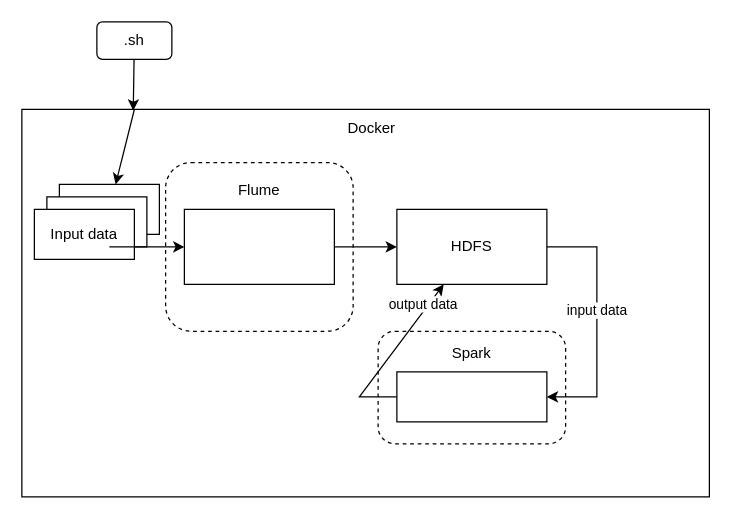
Image size: 731x519. Some labels were removed from this diagram. The shapes that lost their labels are listed below. From the top down, each one's centre as x and y in pixels, then its label:
At [258,246]: "Flume agent".
At [471,396]: "SparkApp.jar".
